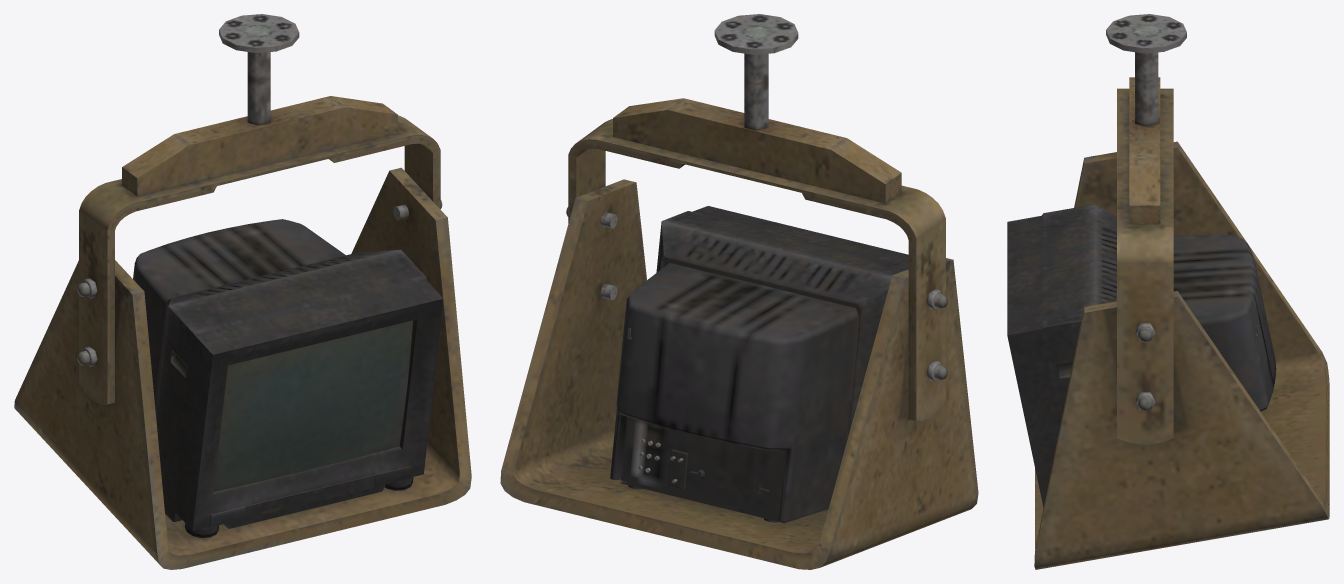
Rendered from 005_ceilingtv01a_01.fbx.
3 renders of one model, left to right at view 1: azimuth 30°, elevation 25°; view 2: azimuth 150°, elevation 25°; view 3: azimuth 270°, elevation 25°, orthographic. The views are drawn at different scales.
Parts seen in each view (by area): view 1: LOD_1_Group_0_Sub_1__sm31_005_CeilingTV01A_A_Mat, LOD_1_Group_1_Sub_1__sm31_005_CeilingTV01A_A_Mat, LOD_1_Group_2_Sub_1__sm31_005_CeilingTV01A_A_Mat, LOD_1_Group_4_Sub_1__sm31_005_CeilingTV01A_A_Mat__Env_Emissi, LOD_1_Group_3_Sub_1__sm31_005_CeilingTV01A_A_Mat; view 2: LOD_1_Group_0_Sub_1__sm31_005_CeilingTV01A_A_Mat, LOD_1_Group_1_Sub_1__sm31_005_CeilingTV01A_A_Mat, LOD_1_Group_2_Sub_1__sm31_005_CeilingTV01A_A_Mat, LOD_1_Group_3_Sub_1__sm31_005_CeilingTV01A_A_Mat; view 3: LOD_1_Group_1_Sub_1__sm31_005_CeilingTV01A_A_Mat, LOD_1_Group_0_Sub_1__sm31_005_CeilingTV01A_A_Mat, LOD_1_Group_2_Sub_1__sm31_005_CeilingTV01A_A_Mat, LOD_1_Group_3_Sub_1__sm31_005_CeilingTV01A_A_Mat.
Boxes of the visible parts, bbox=[...] form: LOD_1_Group_0_Sub_1__sm31_005_CeilingTV01A_A_Mat: bbox=[133, 219, 443, 538]; LOD_1_Group_1_Sub_1__sm31_005_CeilingTV01A_A_Mat: bbox=[14, 167, 471, 569]; LOD_1_Group_2_Sub_1__sm31_005_CeilingTV01A_A_Mat: bbox=[77, 96, 442, 404]; LOD_1_Group_4_Sub_1__sm31_005_CeilingTV01A_A_Mat__Env_Emissi: bbox=[213, 320, 413, 491]; LOD_1_Group_3_Sub_1__sm31_005_CeilingTV01A_A_Mat: bbox=[219, 14, 299, 125]; LOD_1_Group_0_Sub_1__sm31_005_CeilingTV01A_A_Mat: bbox=[610, 206, 908, 523]; LOD_1_Group_1_Sub_1__sm31_005_CeilingTV01A_A_Mat: bbox=[500, 179, 978, 569]; LOD_1_Group_2_Sub_1__sm31_005_CeilingTV01A_A_Mat: bbox=[566, 98, 947, 420]; LOD_1_Group_3_Sub_1__sm31_005_CeilingTV01A_A_Mat: bbox=[714, 14, 798, 130]; LOD_1_Group_1_Sub_1__sm31_005_CeilingTV01A_A_Mat: bbox=[1034, 141, 1329, 569]; LOD_1_Group_0_Sub_1__sm31_005_CeilingTV01A_A_Mat: bbox=[1007, 204, 1276, 507]; LOD_1_Group_2_Sub_1__sm31_005_CeilingTV01A_A_Mat: bbox=[1117, 77, 1173, 445]; LOD_1_Group_3_Sub_1__sm31_005_CeilingTV01A_A_Mat: bbox=[1106, 14, 1186, 126].
Bounding box in the file's own units: 0.8794 × 1.08 × 0.6722.
